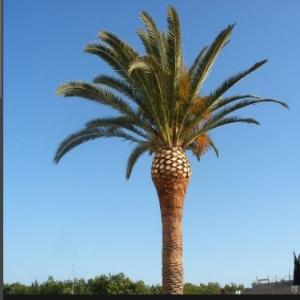palm tree: (52, 4, 289, 293)
